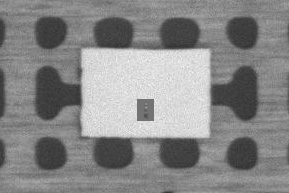DIE_INK: (205, 66, 231, 81)
